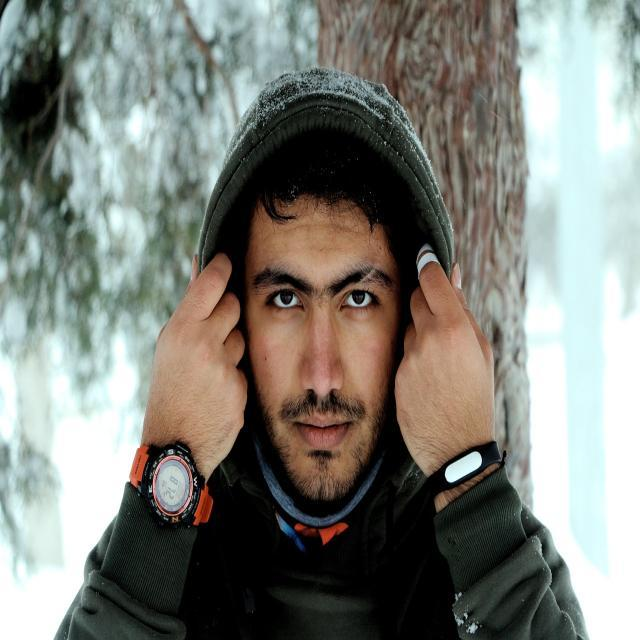no_hard_hat: (198, 68, 454, 279)
person: (56, 164, 588, 639)
